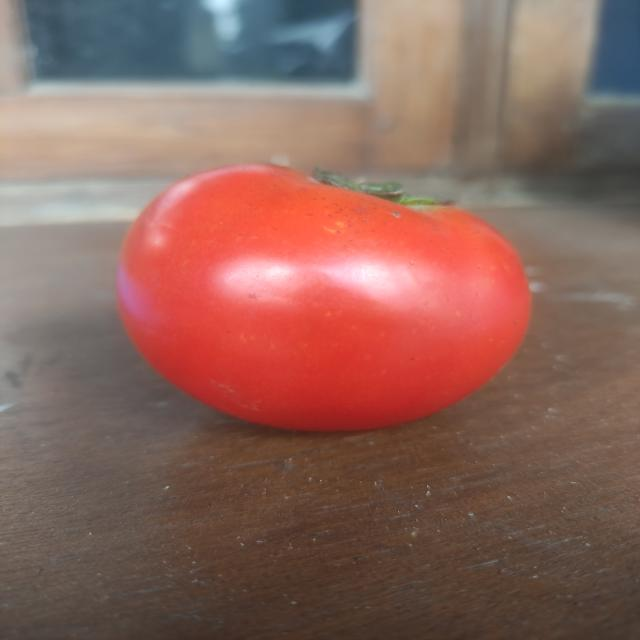ripe tomato: (115, 165, 534, 436)
